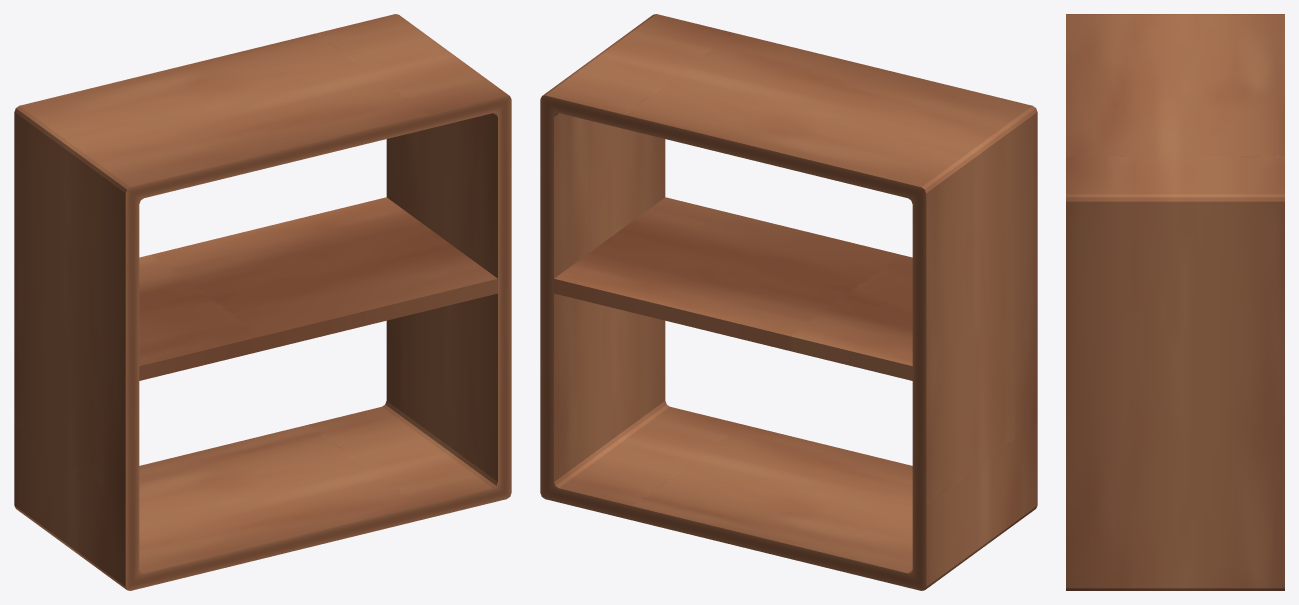
Rendered from Kallax.fbx.
3 renders of one model, left to right at view 1: azimuth 30°, elevation 25°; view 2: azimuth 150°, elevation 25°; view 3: azimuth 270°, elevation 25°, orthographic.
Visible parts, largest first — view 1: Cube; view 2: Cube; view 3: Cube.
Boxes of the visible parts, <box> form: Cube: <box>14,14,511,590</box>; Cube: <box>540,14,1037,590</box>; Cube: <box>1066,14,1284,590</box>.
Bounding box in the file's own units: 200 × 200 × 100.
